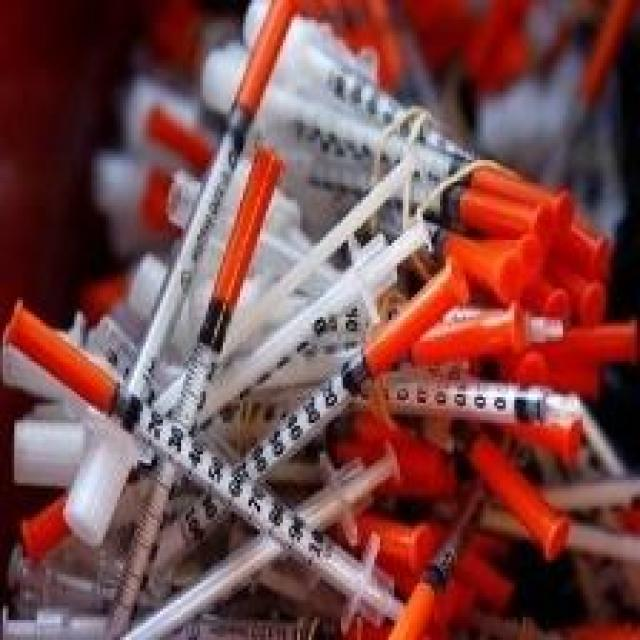syringe: (22, 23, 593, 587)
